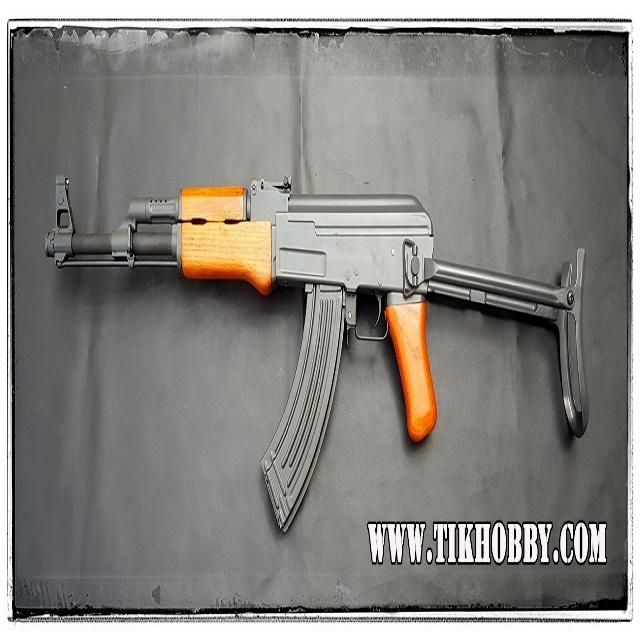ak: (42, 159, 596, 532)
